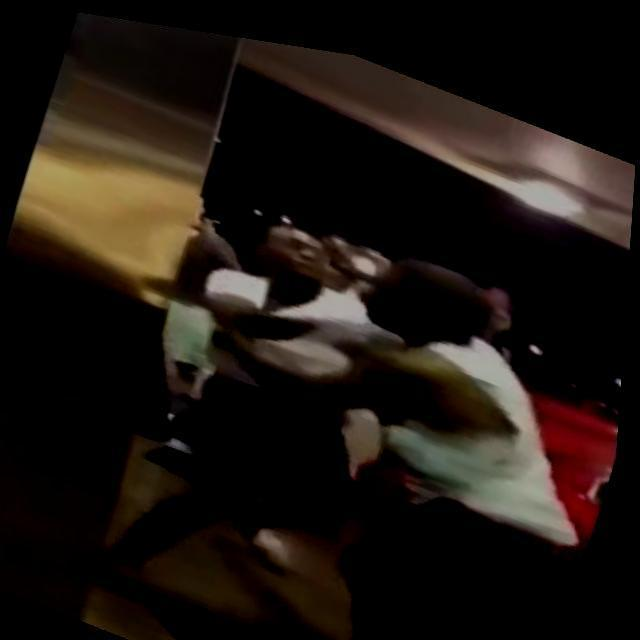fight: (103, 167, 632, 640)
